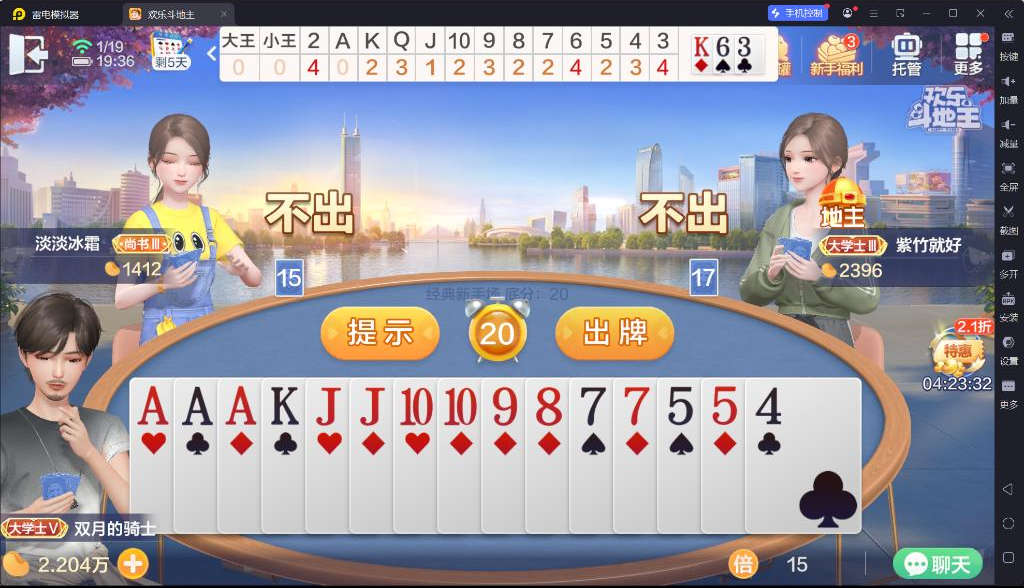A: (222, 383, 258, 428), (181, 382, 215, 429), (135, 383, 171, 427)
J: (312, 381, 343, 427), (357, 383, 386, 428)
K: (267, 381, 302, 427), (693, 36, 710, 58)
eight: (535, 384, 564, 427)
five: (662, 384, 696, 427), (708, 384, 739, 426)
four: (753, 384, 783, 427)
nine: (490, 383, 518, 428)
seven: (620, 384, 653, 426), (578, 385, 608, 427)
six: (715, 36, 732, 58)
ten: (399, 383, 436, 428), (442, 382, 478, 428)
three: (736, 36, 752, 57)
